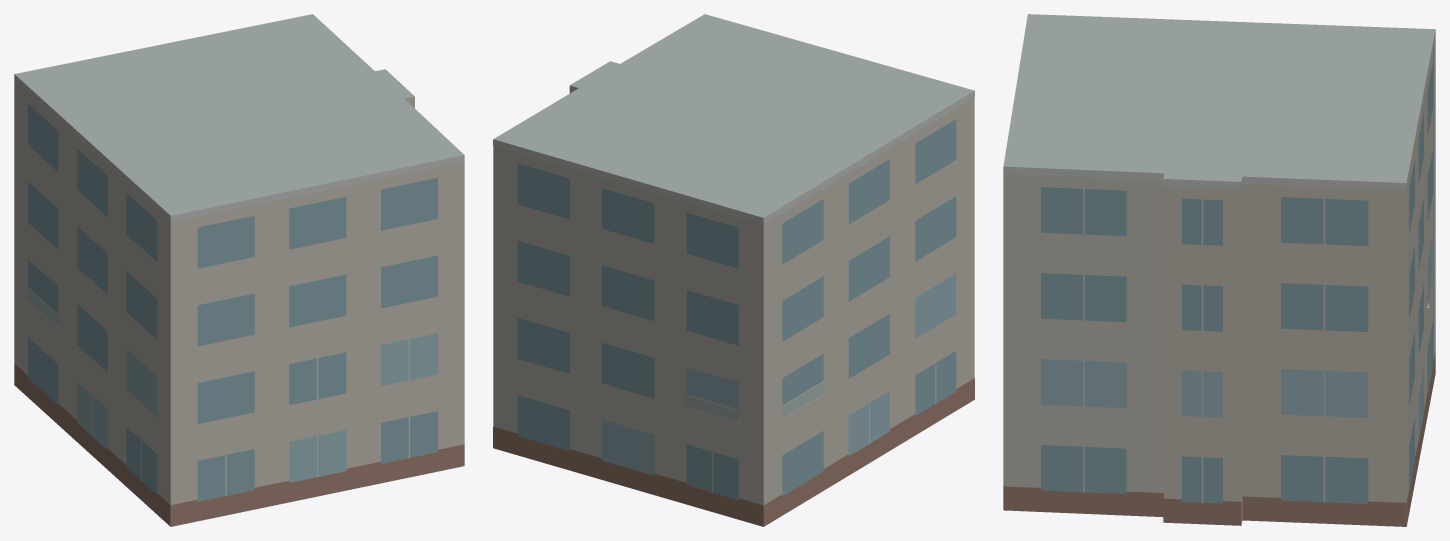
Rendered from survey-upis-32671879.glb.
3 views of the same model, side by side, from view 1: azimuth 30°, elevation 25°; view 2: azimuth 150°, elevation 25°; view 3: azimuth 270°, elevation 25° (orthographic). The views are drawn at different scales.
Visible parts, largest first — view 1: survey-upis-32671879.tmp; view 2: survey-upis-32671879.tmp; view 3: survey-upis-32671879.tmp.
Boxes of the visible parts, bbox=[...] form: survey-upis-32671879.tmp: bbox=[14, 14, 464, 526]; survey-upis-32671879.tmp: bbox=[493, 14, 974, 526]; survey-upis-32671879.tmp: bbox=[1003, 14, 1435, 526].
Size of the model in its own units: 12.14 by 11.5 by 13.12.
